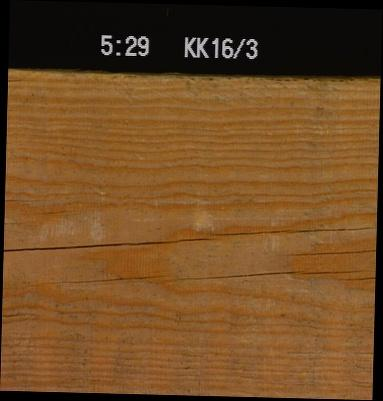split: (211, 222, 376, 239), (27, 270, 169, 287), (179, 266, 303, 281), (281, 245, 376, 258), (300, 265, 364, 276), (334, 272, 375, 281), (1, 308, 34, 318), (7, 74, 23, 82)
